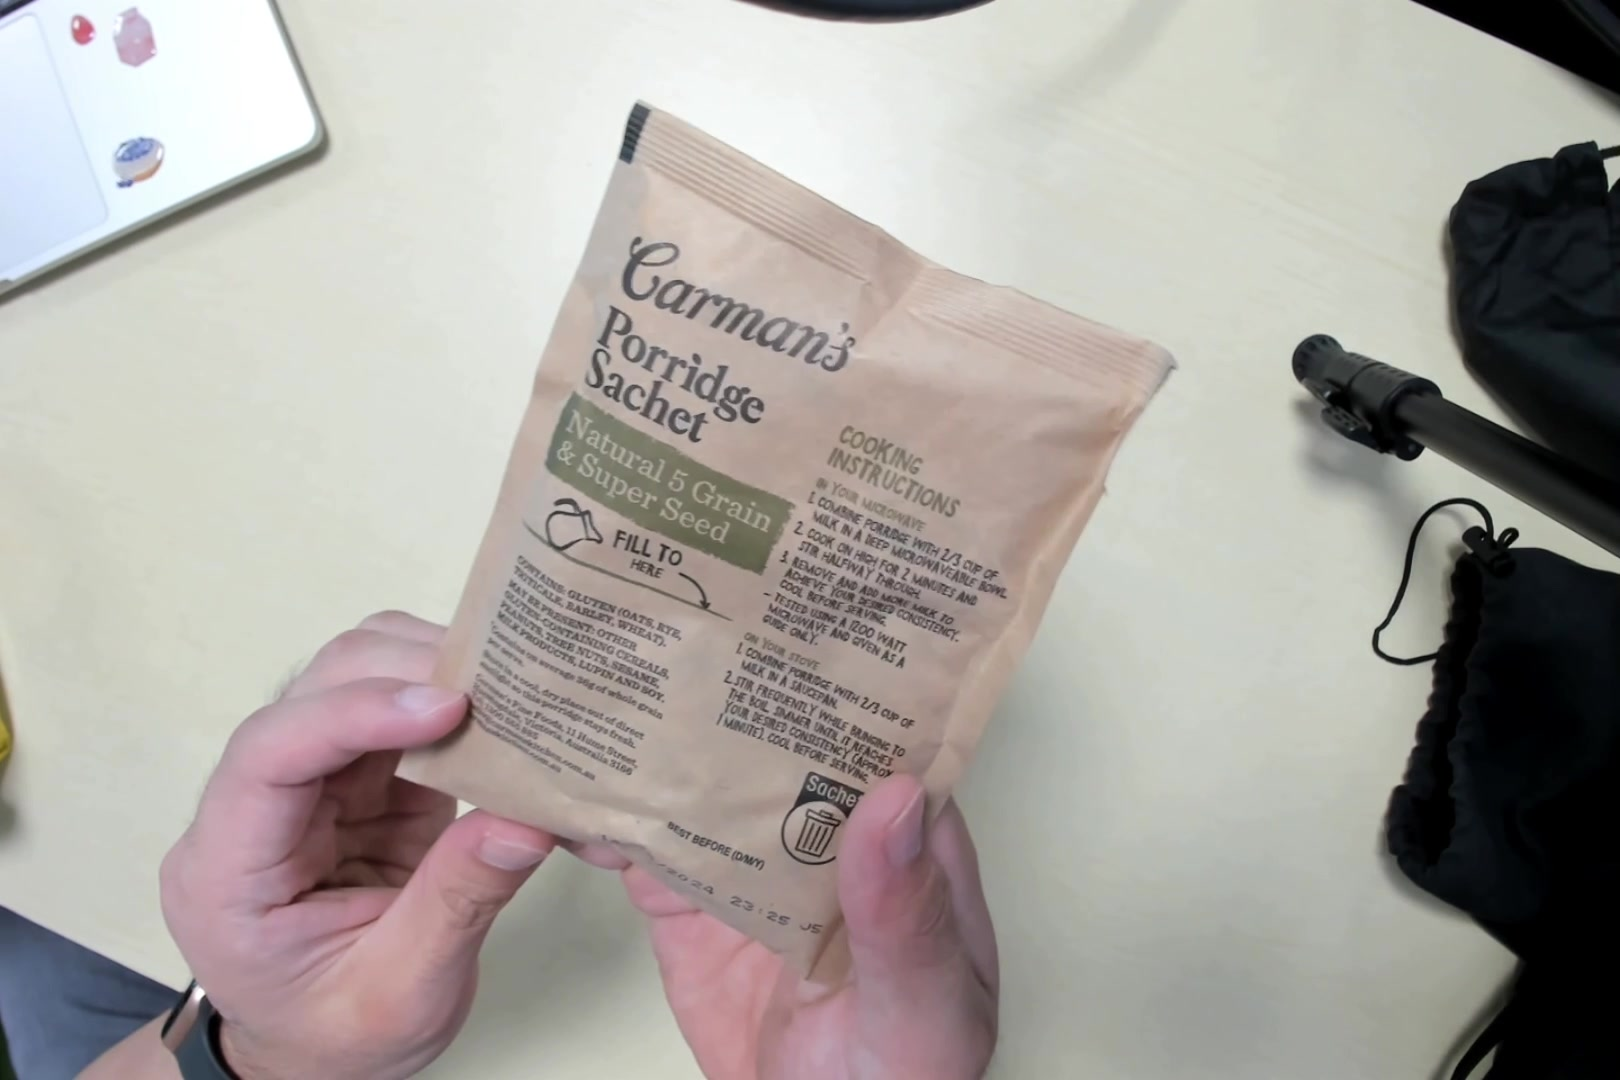InstantMeals_0-99g_NonHalal_NonHealthy: (429, 98, 1056, 987)
